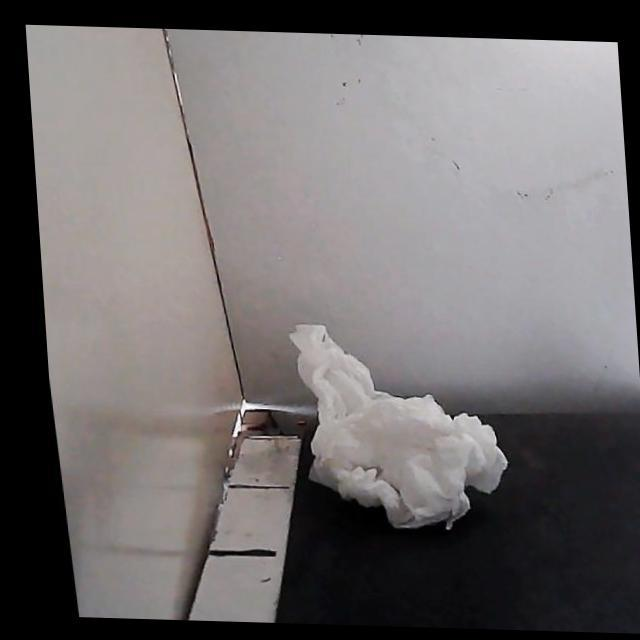papel: (290, 326, 507, 528)
